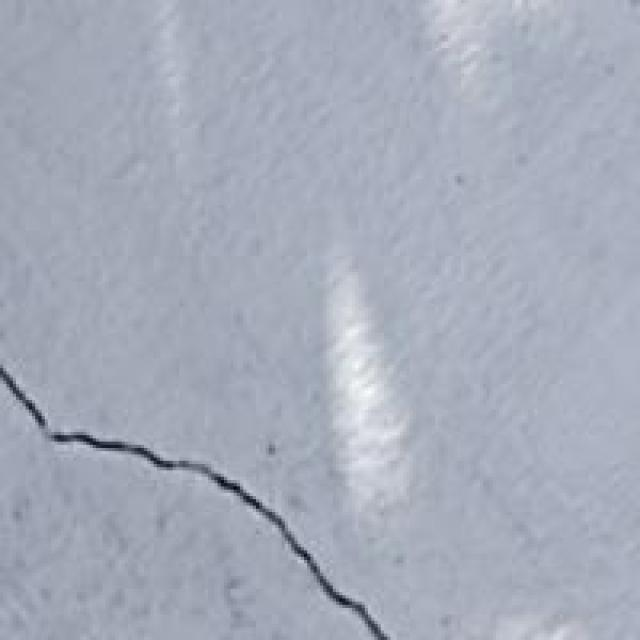Crack: (0, 282, 410, 636)
